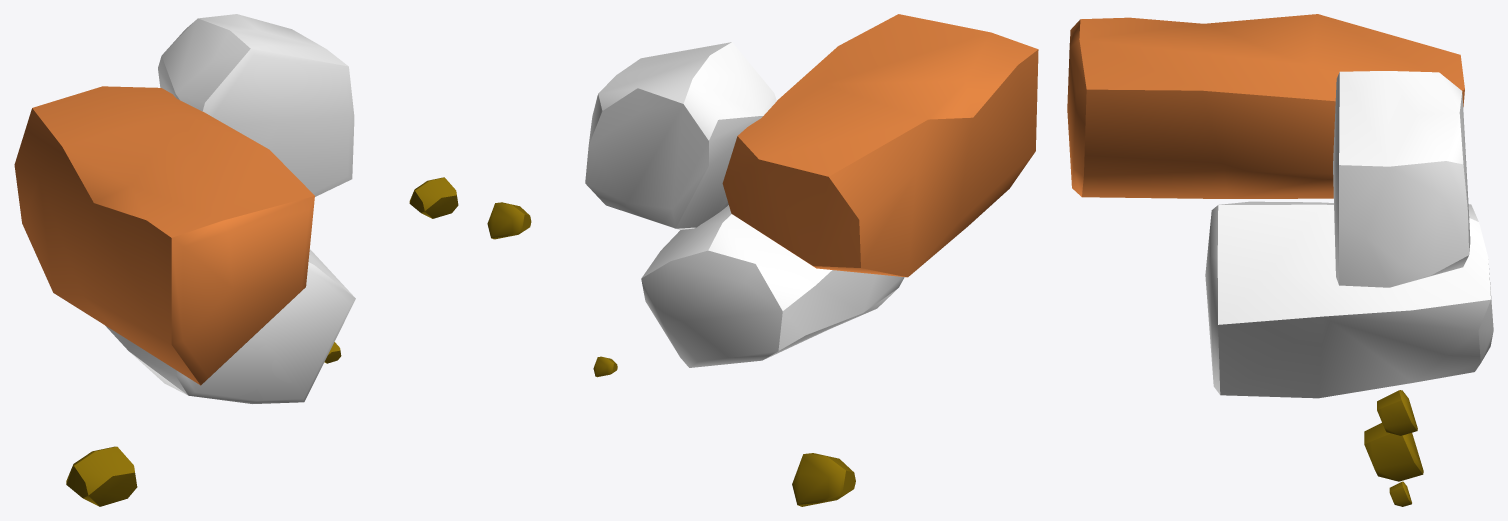
Rendered from stone combined 1.glb.
3 views of the same model, side by side, from view 1: azimuth 30°, elevation 25°; view 2: azimuth 150°, elevation 25°; view 3: azimuth 270°, elevation 25° (orthographic). The views are drawn at different scales.
Parts seen in each view (by area): view 1: Stone_2_Low.004; view 2: Stone_2_Low.004; view 3: Stone_2_Low.004.
Part boxes in pixels (<box>): Stone_2_Low.004: <box>14,14,458,506</box>; Stone_2_Low.004: <box>487,14,1038,506</box>; Stone_2_Low.004: <box>1067,14,1493,506</box>.
Size of the model in its own units: 0.8545 by 0.8375 by 0.6917.
